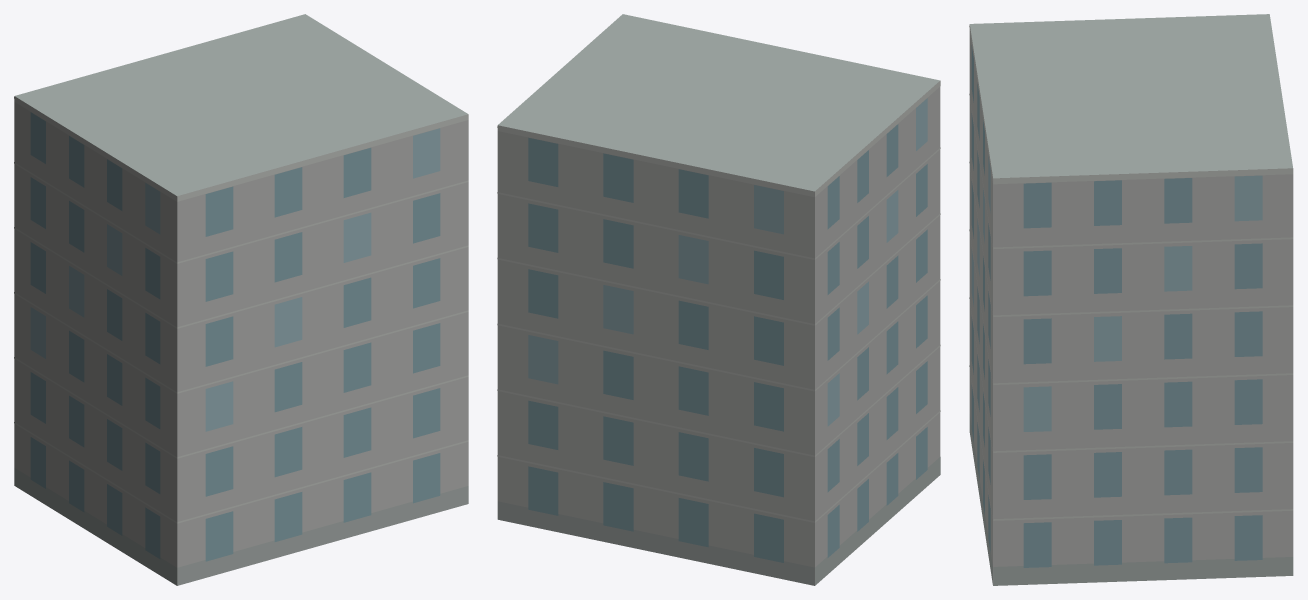
File: survey-upis-32701653.glb
The picture shows the model from 3 angles, left to right: view 1: azimuth 30°, elevation 25°; view 2: azimuth 150°, elevation 25°; view 3: azimuth 270°, elevation 25°; orthographic projection. The views are drawn at different scales.
Visible parts, largest first — view 1: survey-upis-32701653.tmp; view 2: survey-upis-32701653.tmp; view 3: survey-upis-32701653.tmp.
Boxes of the visible parts, <box> form: survey-upis-32701653.tmp: <box>14,14,468,585</box>; survey-upis-32701653.tmp: <box>497,14,940,585</box>; survey-upis-32701653.tmp: <box>969,14,1293,585</box>.
Bounding box in the file's own units: 14.47 × 16.7 × 12.04.
